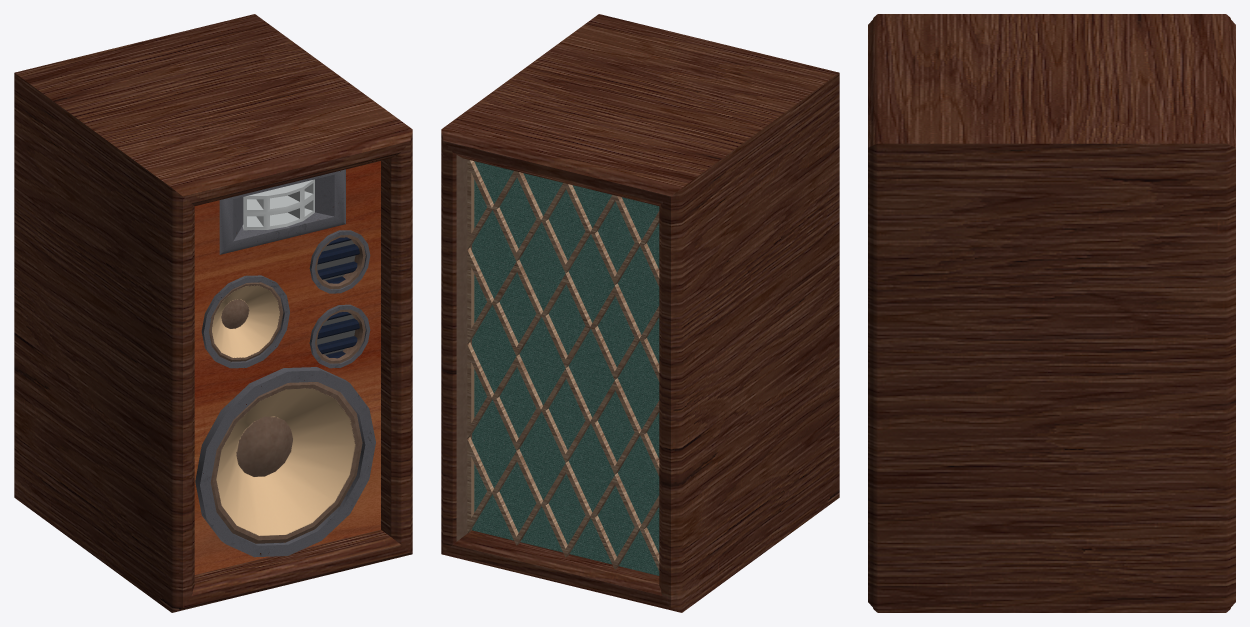
File: RetroSpeaker.fbx
The picture shows the model from 3 angles, left to right: view 1: azimuth 30°, elevation 25°; view 2: azimuth 150°, elevation 25°; view 3: azimuth 270°, elevation 25°; orthographic projection. The views are drawn at different scales.
Visible parts, largest first — view 1: Speaker; view 2: Speaker; view 3: Speaker.
Boxes of the visible parts, box(x1,y1,x2,y2) form: Speaker: box(14, 14, 412, 612); Speaker: box(441, 14, 839, 612); Speaker: box(868, 14, 1235, 612).
Size of the model in its own units: 163 by 275 by 196.
